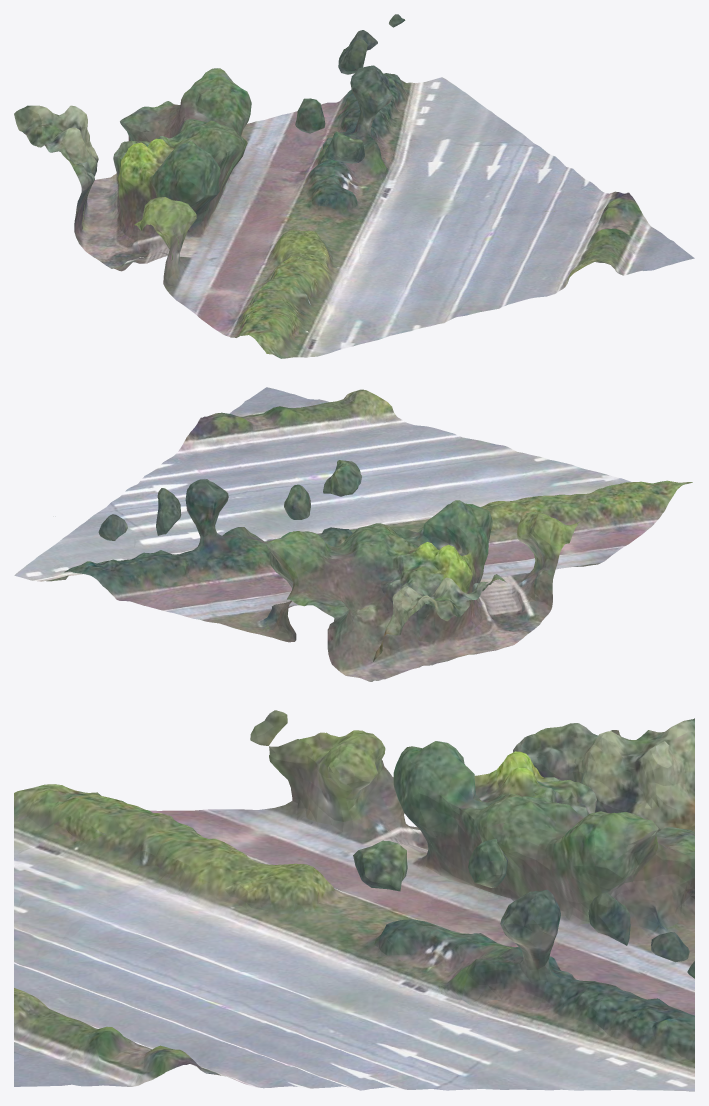
File: Tile__001__006_L22_00001000.glb
3 views of the same model, one above another, from view 1: azimuth 30°, elevation 25°; view 2: azimuth 150°, elevation 25°; view 3: azimuth 270°, elevation 25° (orthographic). The views are drawn at different scales.
Parts seen in each view (by area): view 1: root; view 2: root; view 3: root.
Boxes of the visible parts, x1,y1,x2,y2 form: root: (14,14,694,358); root: (14,387,692,681); root: (14,710,694,1091).
Bounding box in the file's own units: 25.06 × 6.25 × 25.59.
Materials: 1 (1 with a texture image).
